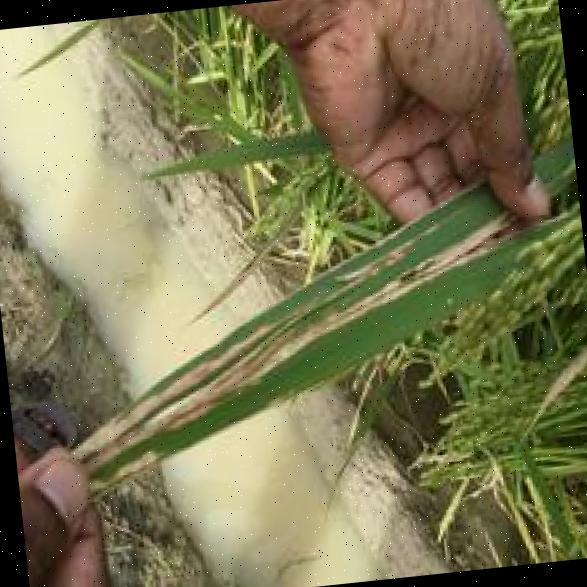Bacteria_Leaf_Blight: (42, 190, 545, 434)
